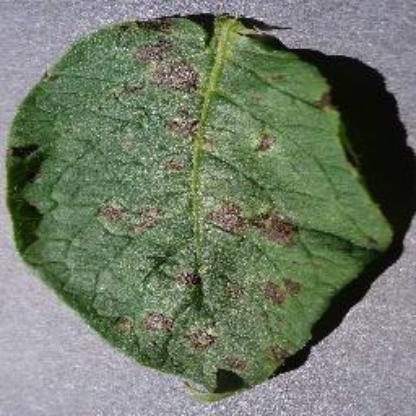Early-Blight: (4, 1, 416, 404)
